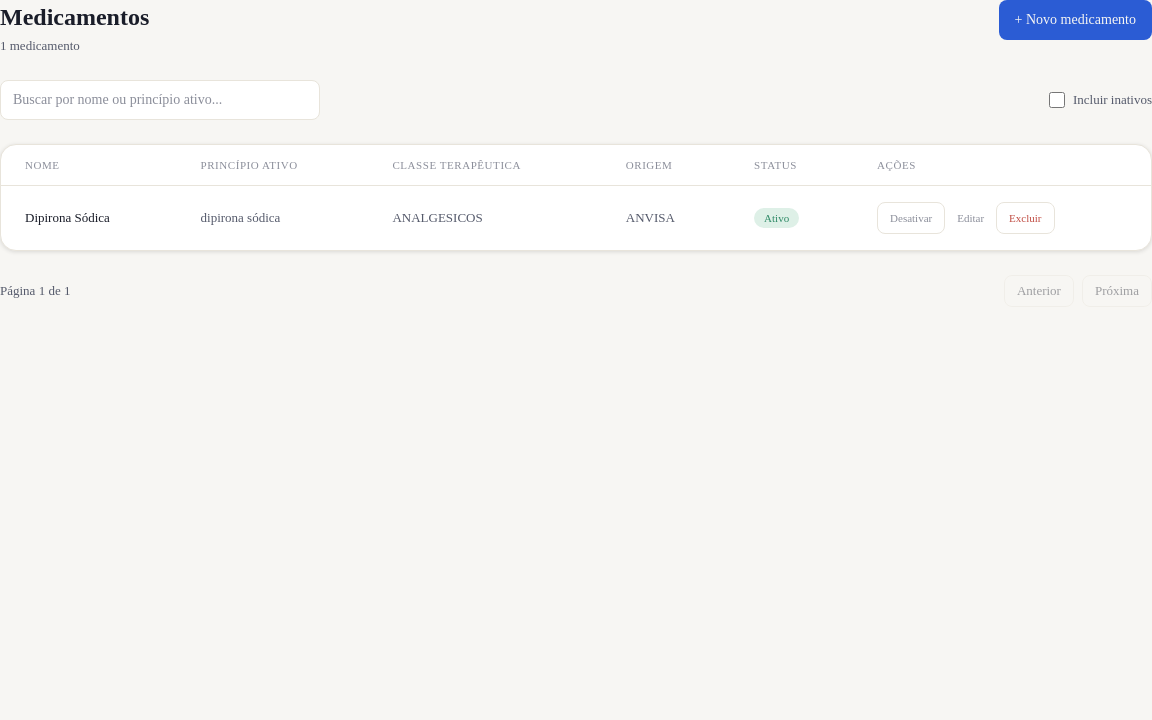
Scenario: MedicationList (integration) › deletes a medication after confirmation
Click the button with test id "medication-delete-button-m1" at (1025, 218), box [996,202,1054,234]
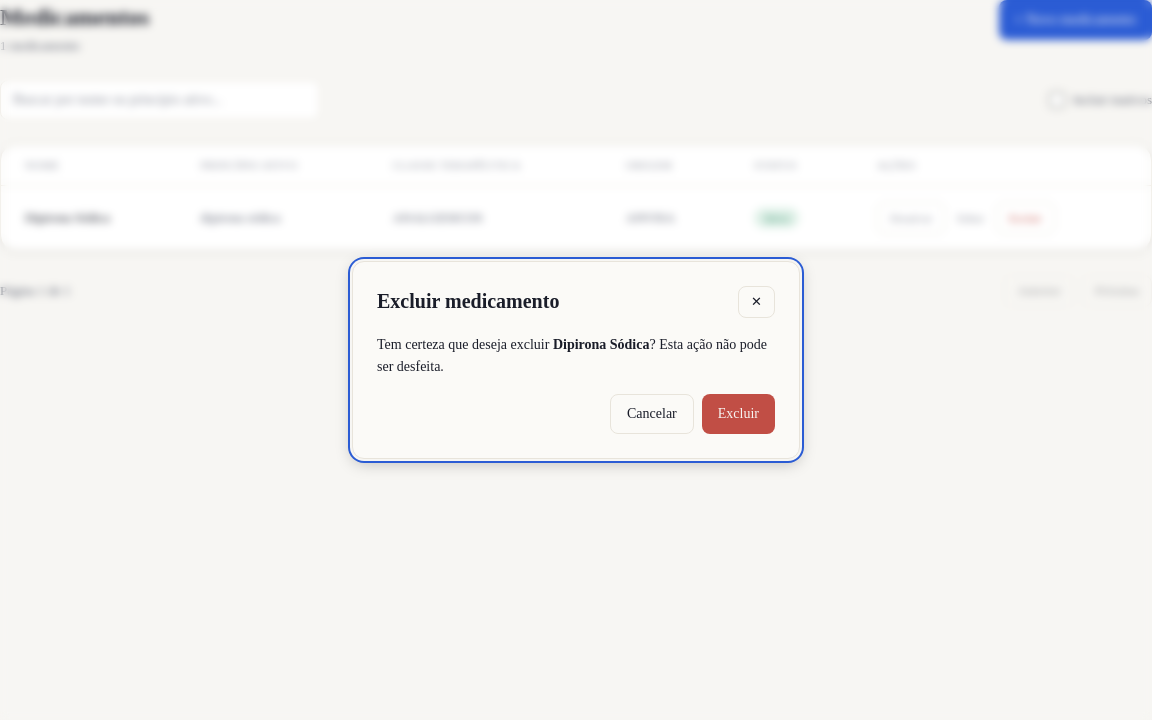
Click the button with test id "medication-delete-dialog-confirm" at (738, 414), box [702,394,775,434]
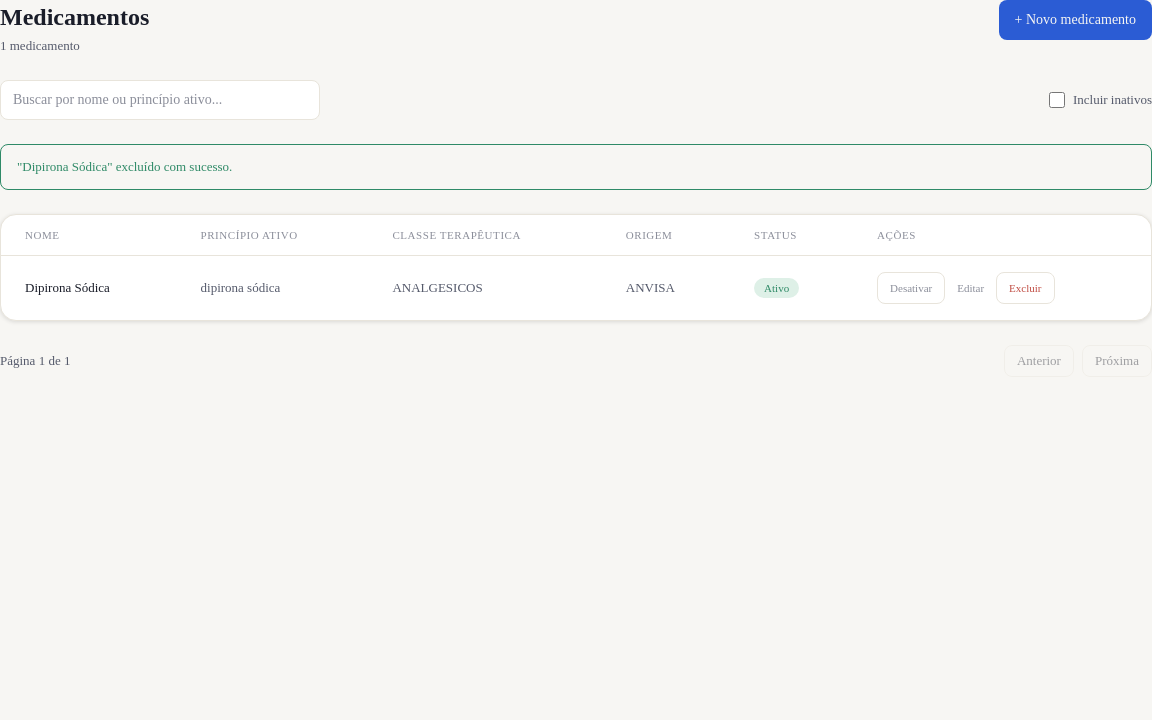
Expected: the message "\"Dipirona Sódica\" excluído com sucesso." is shown, [0,144,1151,190]
